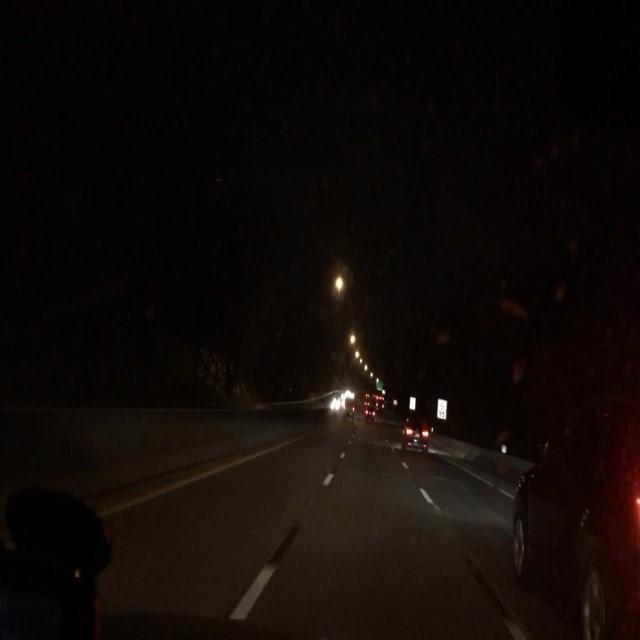normal: (380, 406, 450, 462)
